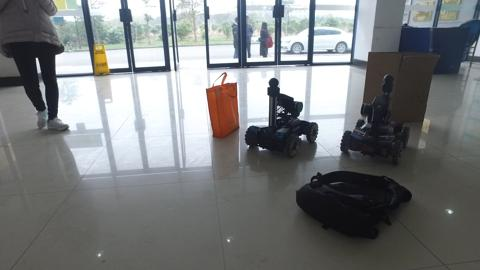bag: (203, 71, 240, 139)
chariot: (337, 76, 411, 163), (245, 77, 322, 158)
